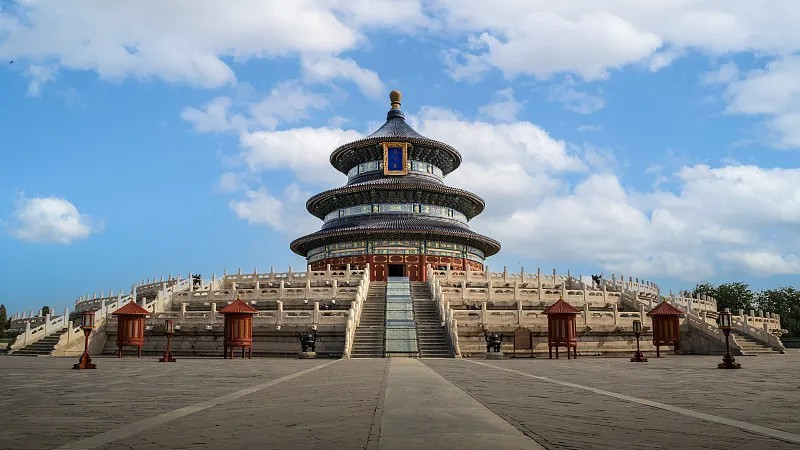Heaven: (289, 90, 502, 279)
